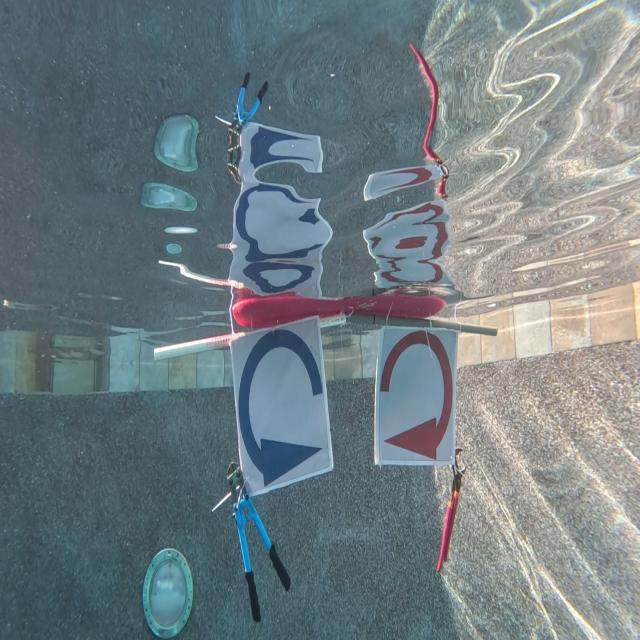blue_side: (223, 314, 333, 493)
red_side: (374, 320, 456, 470)
